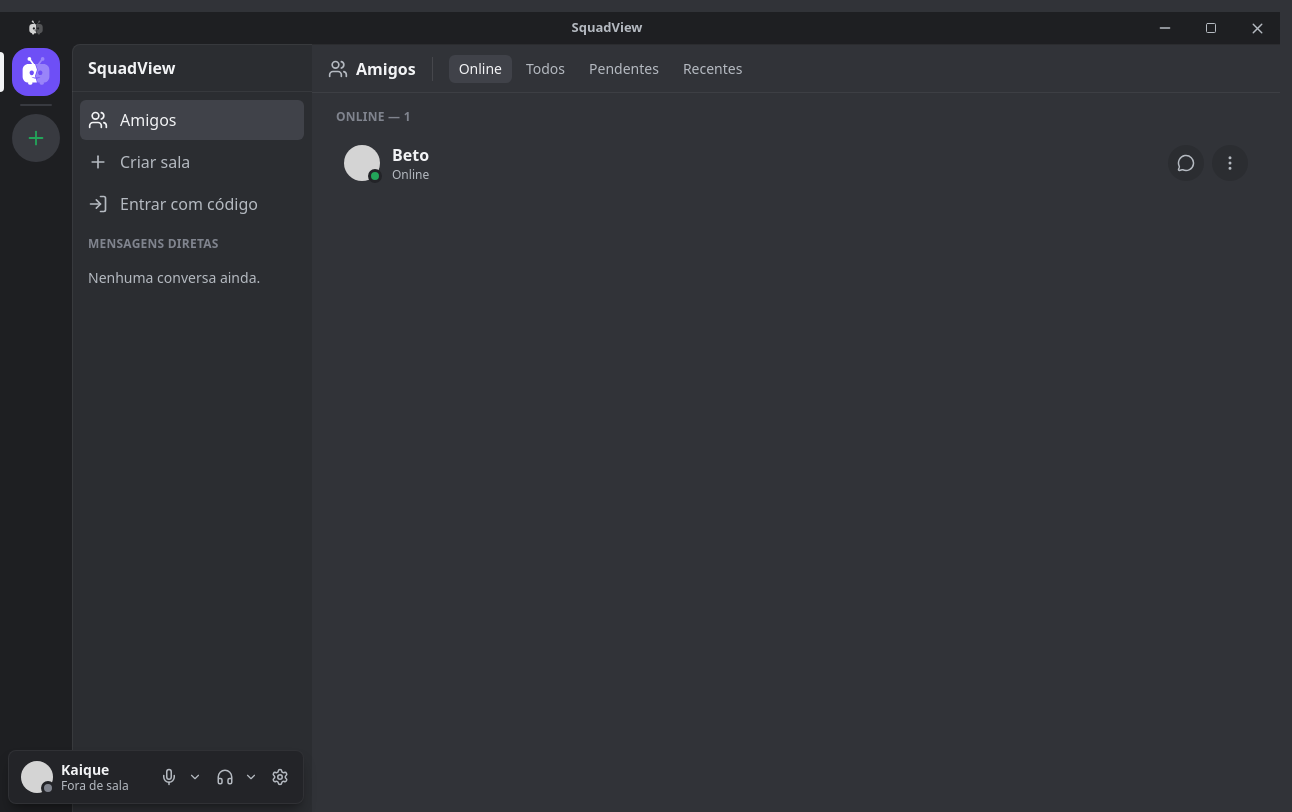
Test: mensagens privadas › fecha a conversa mesmo com o scrollIntoView do Chromium novo, que devolve uma Promise
Step 1. Click the button named "Mensagem" → [1186, 163], box [1168,145,1204,181]
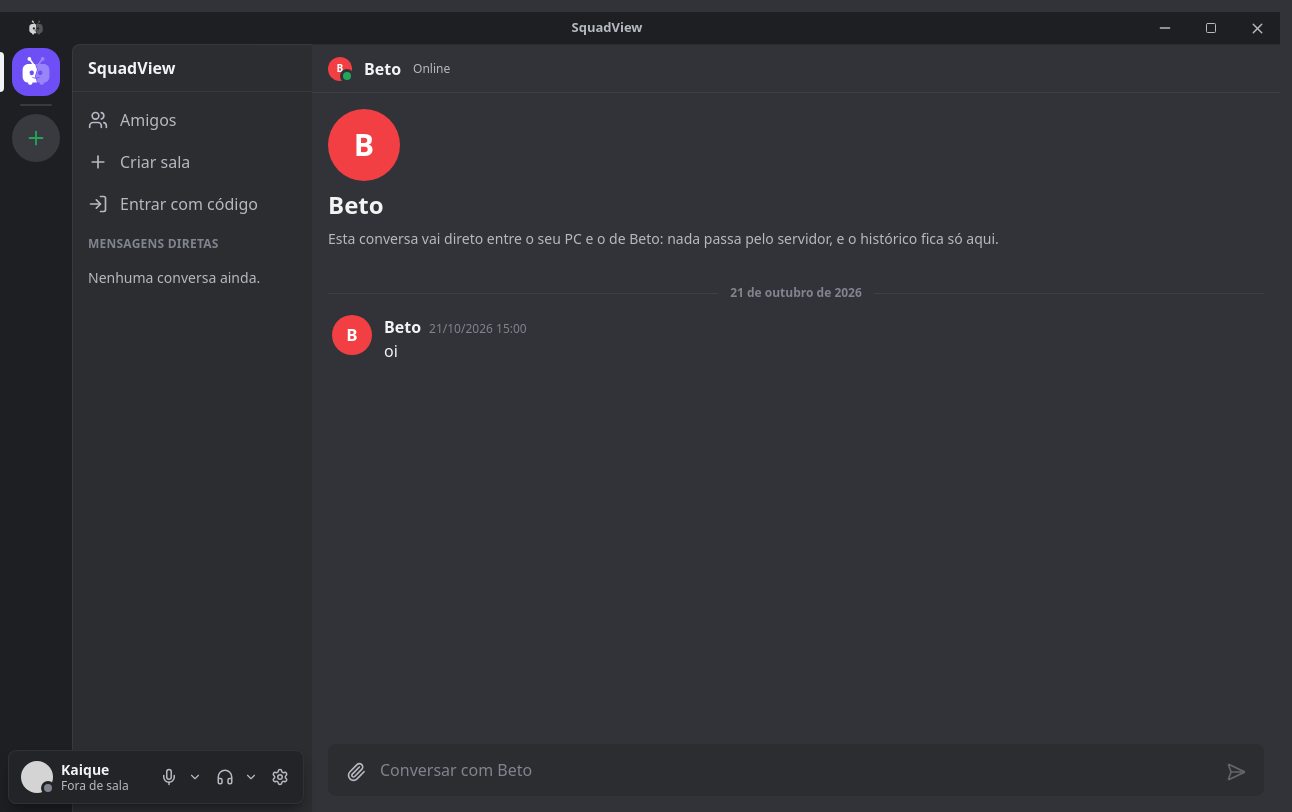
Check: the text "oi" is shown, box [384,340,398,362]
Step 2. Click the button "Amigos" → [192, 120], box [80,100,304,140]
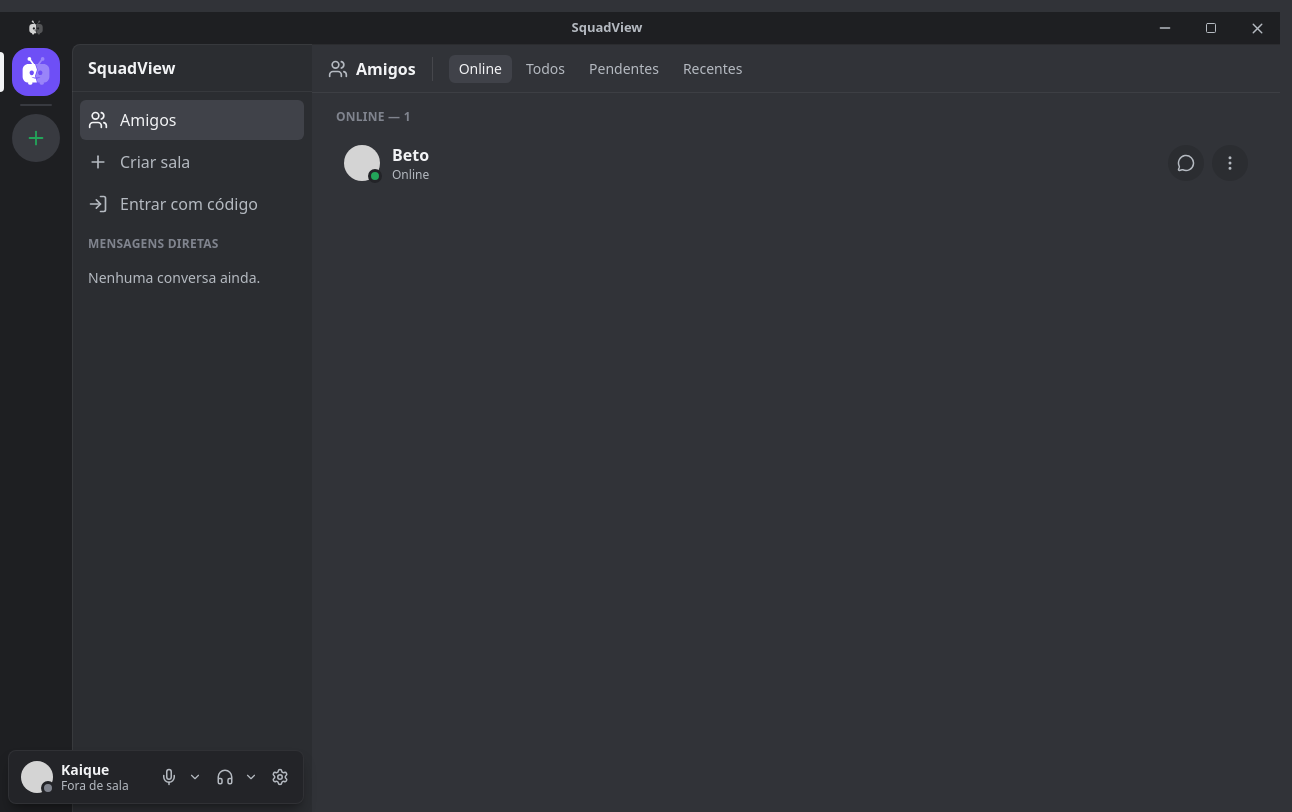
Check: the element "Amigos" is shown, box [312,45,1280,183]
